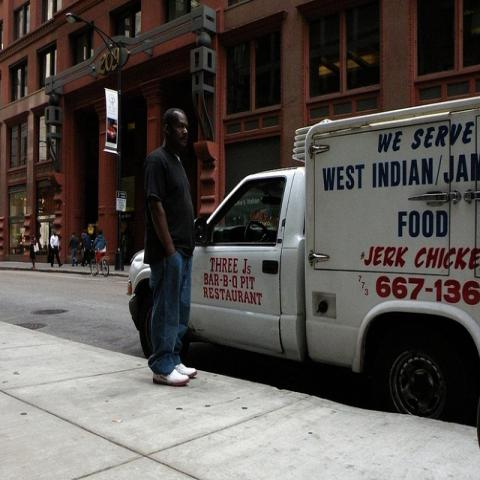truck: (126, 96, 479, 424)
